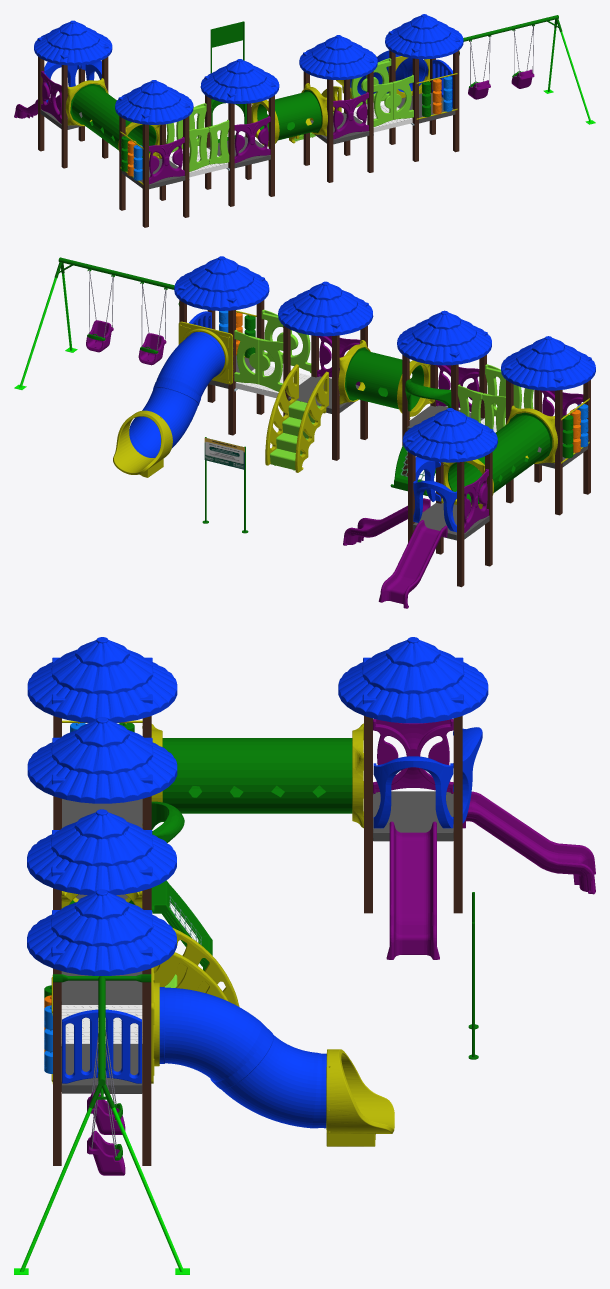
3 views of the same model, one above another, from view 1: azimuth 30°, elevation 25°; view 2: azimuth 150°, elevation 25°; view 3: azimuth 270°, elevation 25° (orthographic). The views are drawn at different scales.
Visible parts, largest first — view 1: COLUNA MAD PLAST 9 X 9CM.009; view 2: COLUNA MAD PLAST 9 X 9CM.009; view 3: COLUNA MAD PLAST 9 X 9CM.009.
Part boxes in pixels (x1,y1,x2,y2): COLUNA MAD PLAST 9 X 9CM.009: (14, 14, 595, 227); COLUNA MAD PLAST 9 X 9CM.009: (14, 256, 595, 608); COLUNA MAD PLAST 9 X 9CM.009: (14, 637, 595, 1274).
Bounding box in the file's own units: 10.18 × 2.84 × 5.92.
21 materials, 2 textured.
